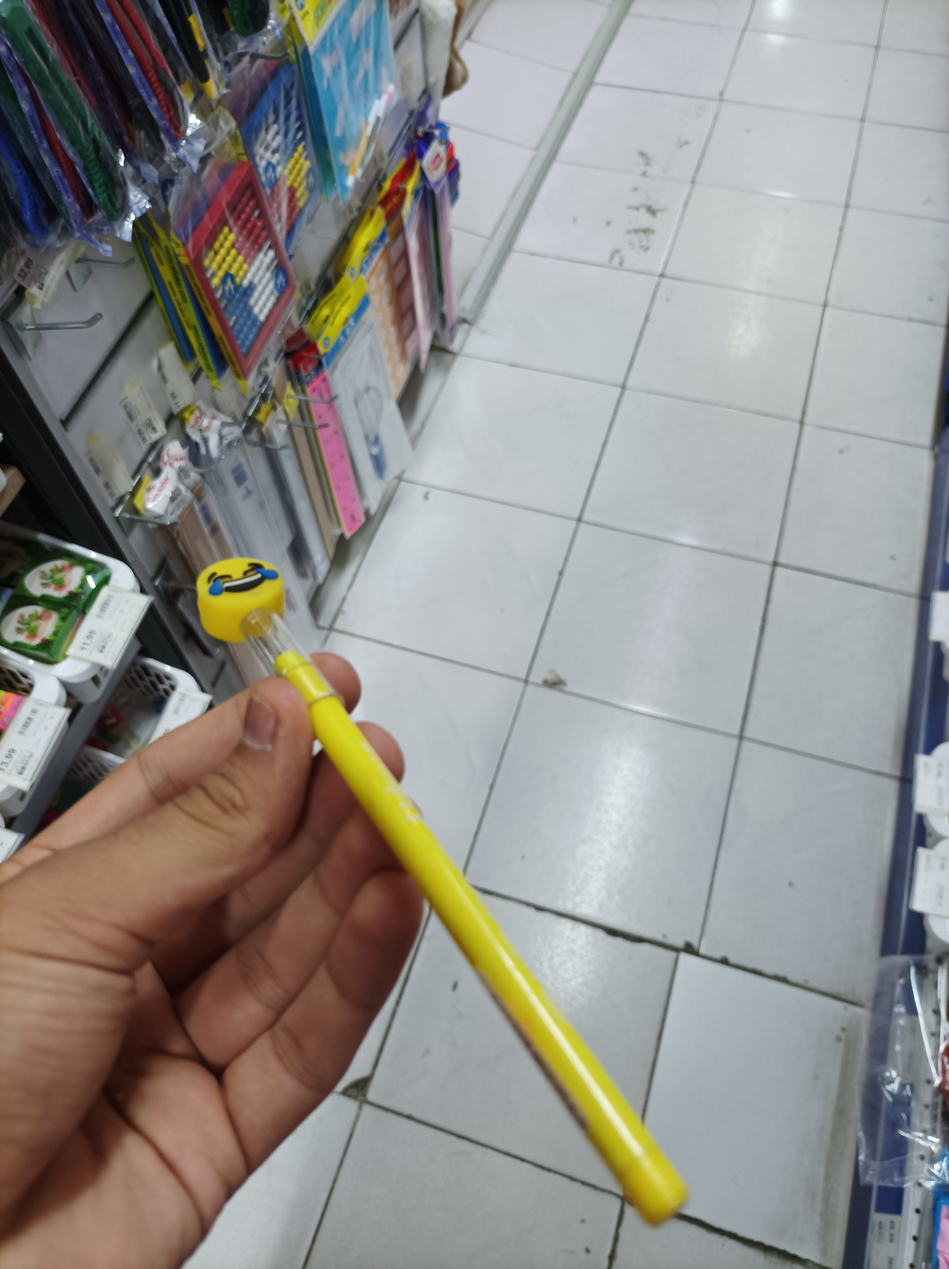plastic: (200, 549, 701, 1247)
